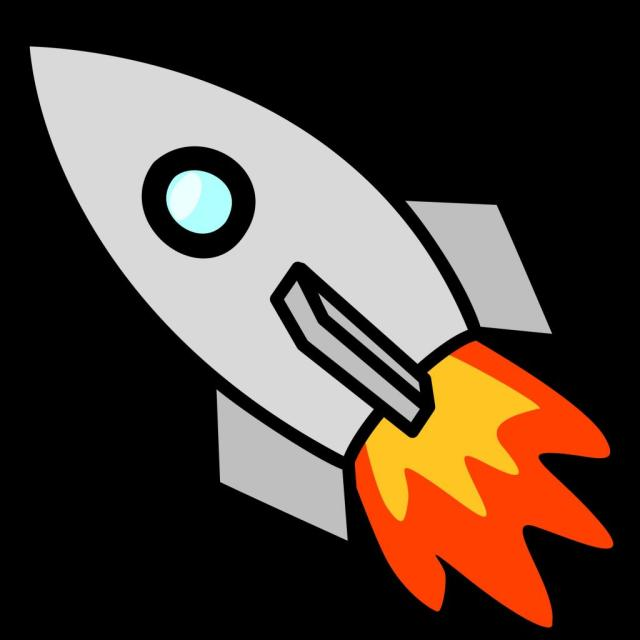medium_debris: (319, 358, 626, 624)
rocket: (8, 25, 579, 560)
